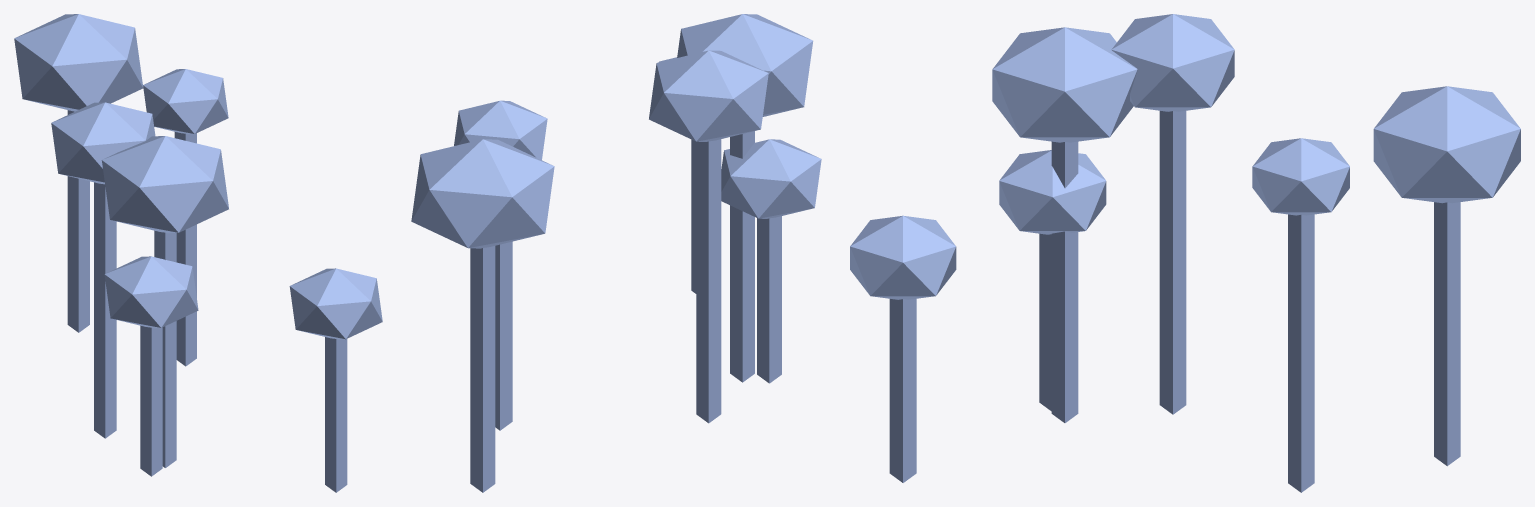
File: flower_blue.glb
3 views of the same model, side by side, from view 1: azimuth 30°, elevation 25°; view 2: azimuth 150°, elevation 25°; view 3: azimuth 270°, elevation 25° (orthographic). The views are drawn at different scales.
Visible parts, largest first — view 1: flower_blue; view 2: flower_blue; view 3: flower_blue.
Boxes of the visible parts, box(x1,y1,x2,y2) form: flower_blue: box(14, 14, 382, 492); flower_blue: box(411, 14, 821, 492); flower_blue: box(850, 14, 1520, 492).
Bounding box in the file's own units: 0.2914 × 0.4213 × 0.6496.
